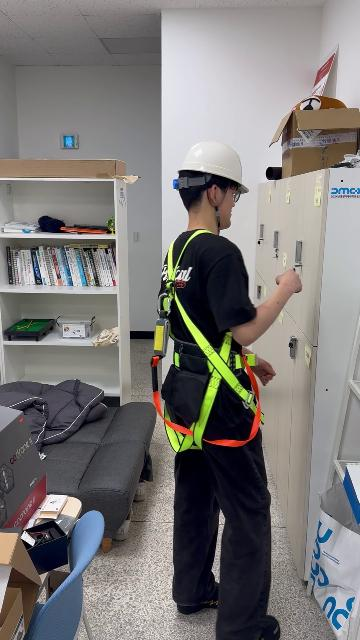helmet_worn: (174, 140, 251, 198)
shoe_worn: (177, 587, 219, 616), (254, 615, 280, 639)
vest_worn: (155, 237, 266, 442)
